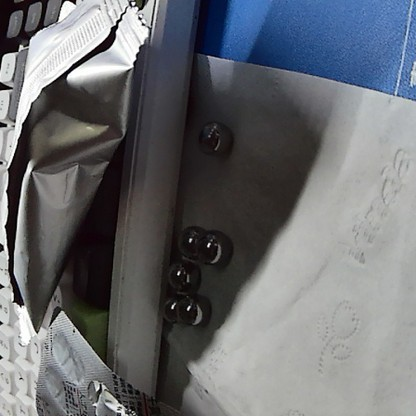ironball: (197, 117, 241, 156), (194, 227, 233, 268), (157, 254, 200, 290), (177, 292, 213, 323), (160, 294, 187, 323), (174, 224, 201, 251)
